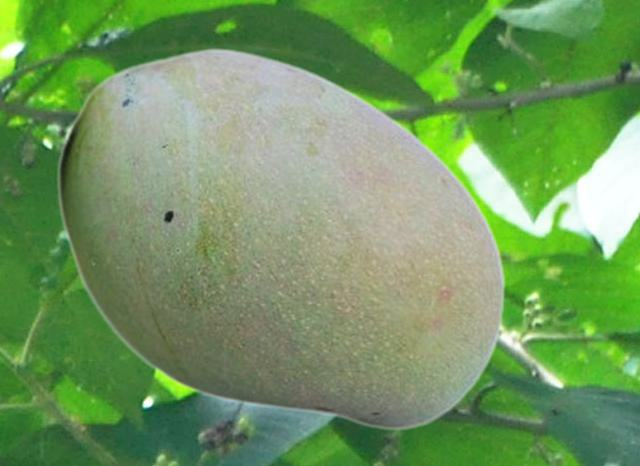green_mango: (56, 46, 505, 430)
